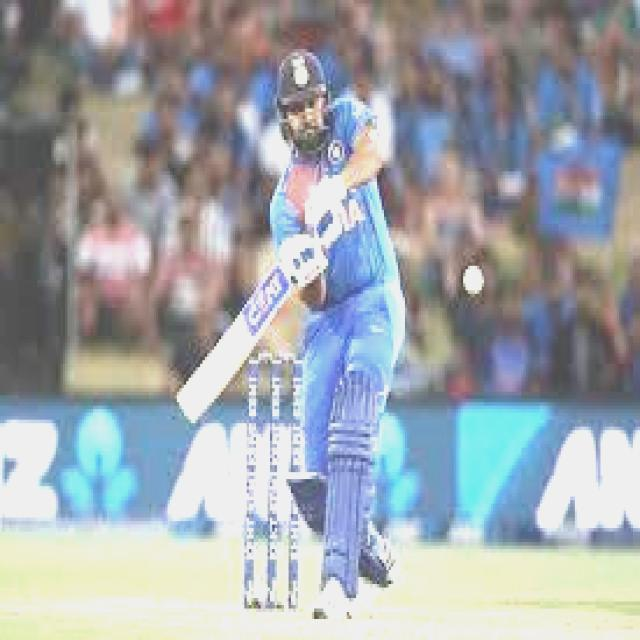toe: (170, 392, 204, 428)
